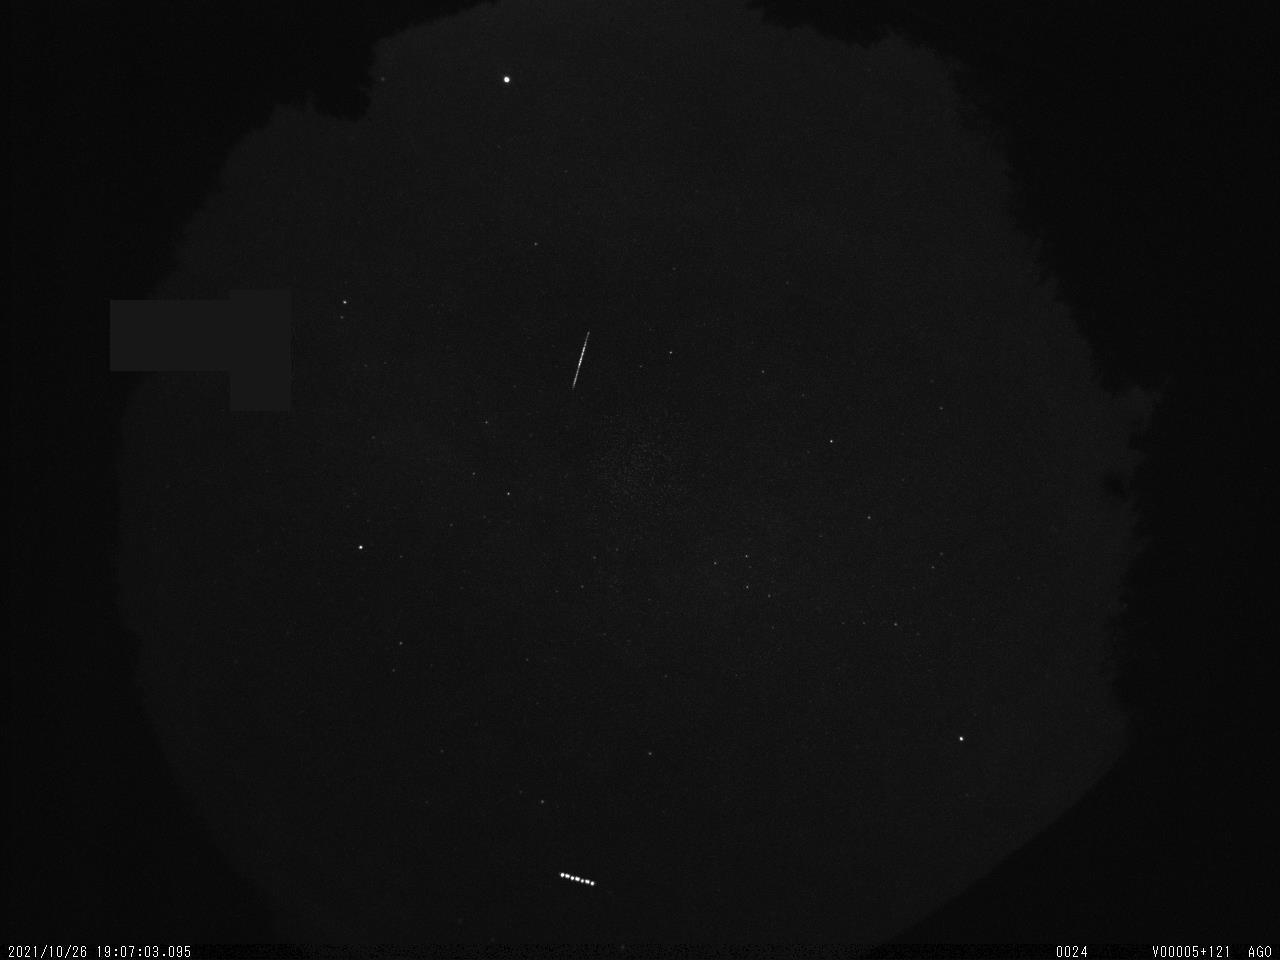meteor: (563, 324, 601, 393)
satelite: (551, 860, 612, 900)
